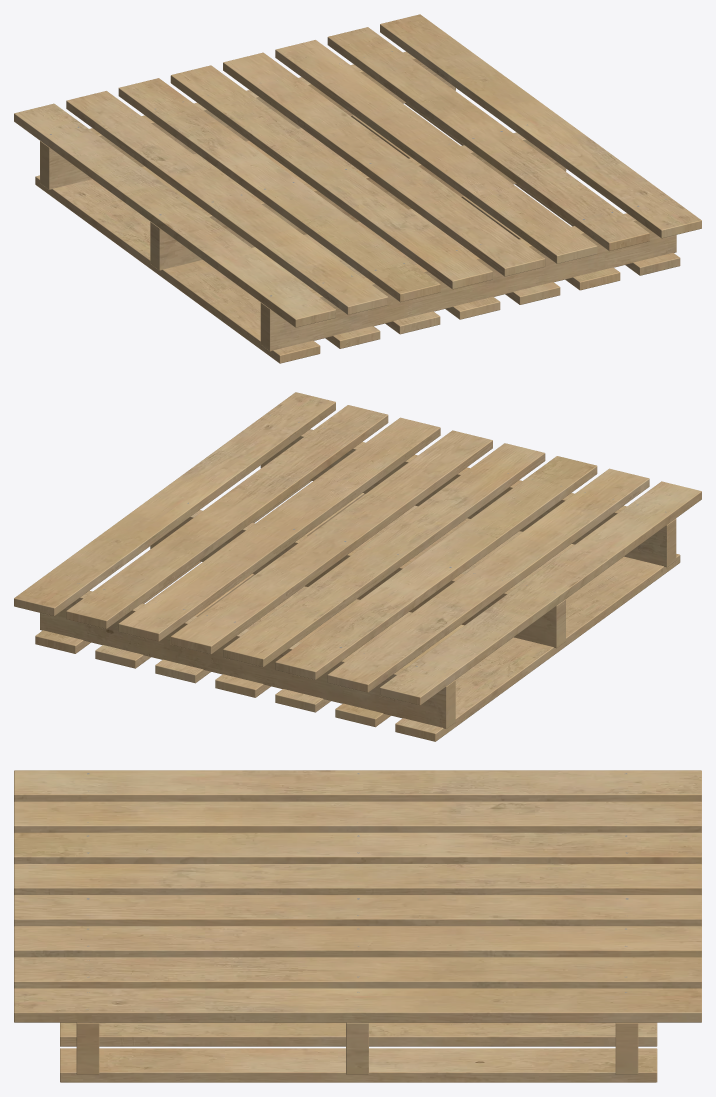
Rendered from pallet_block_a05.glb.
3 renders of one model, top to bottom at view 1: azimuth 30°, elevation 25°; view 2: azimuth 150°, elevation 25°; view 3: azimuth 270°, elevation 25°, orthographic. The views are drawn at different scales.
Visible parts, largest first — view 1: sm_pallet_block_a05_mesh_00; view 2: sm_pallet_block_a05_mesh_00; view 3: sm_pallet_block_a05_mesh_00.
Part boxes in pixels (x1,y1,x2,y2): sm_pallet_block_a05_mesh_00: (14,14,701,363); sm_pallet_block_a05_mesh_00: (14,392,701,741); sm_pallet_block_a05_mesh_00: (14,770,701,1082).
Bounding box in the file's own units: 1 × 0.1386 × 1.2.
2 materials, 2 textured.
